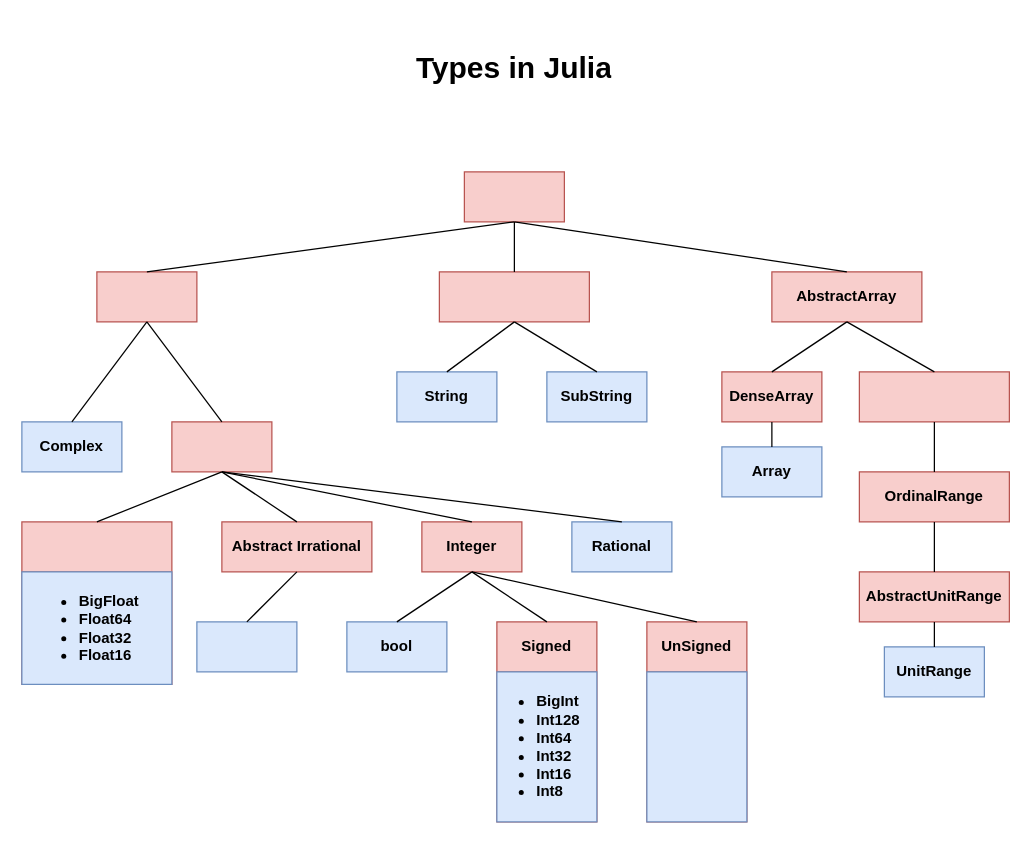
Image size: 1031x844. Some labels were removed from this diagram. Here are the shapes that lost their labels. From the top down, the box of each, then its label:
(463, 171, 564, 222): Any
(96, 271, 197, 322): Number
(438, 271, 589, 322): AbstractString
(858, 371, 1009, 422): AbstractRange
(171, 421, 272, 472): Real
(21, 521, 172, 684): AbstractFloat
(196, 621, 297, 672): Irrational
(646, 671, 747, 822): UInt128 UInt64 UInt32 UInt16 UInt8
